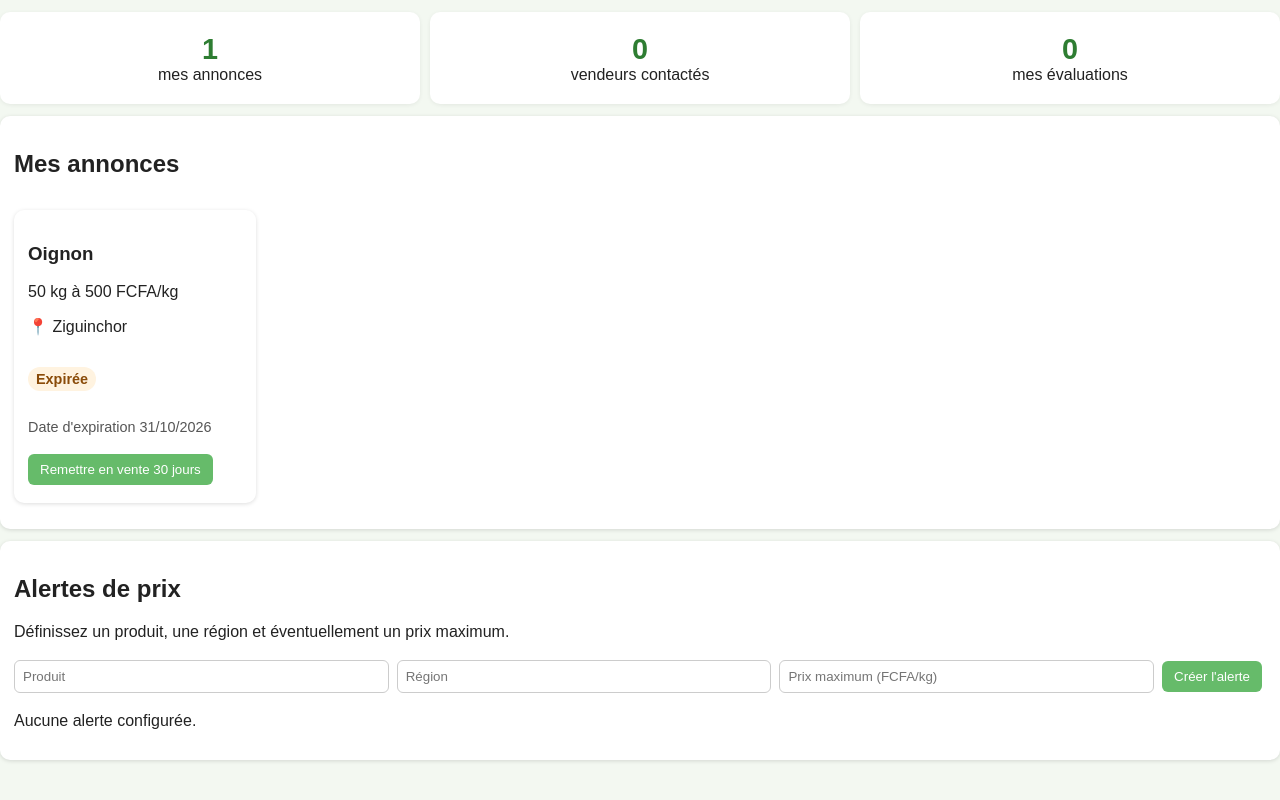
Scenario: TableauBord des annonces › permet de remettre en vente une annonce expirée pour 30 jours
Expected: the text "Expirée" is shown, [28,367,96,391]
Click the button "Remettre en vente 30 jours" at (120, 469), box [28,454,213,485]
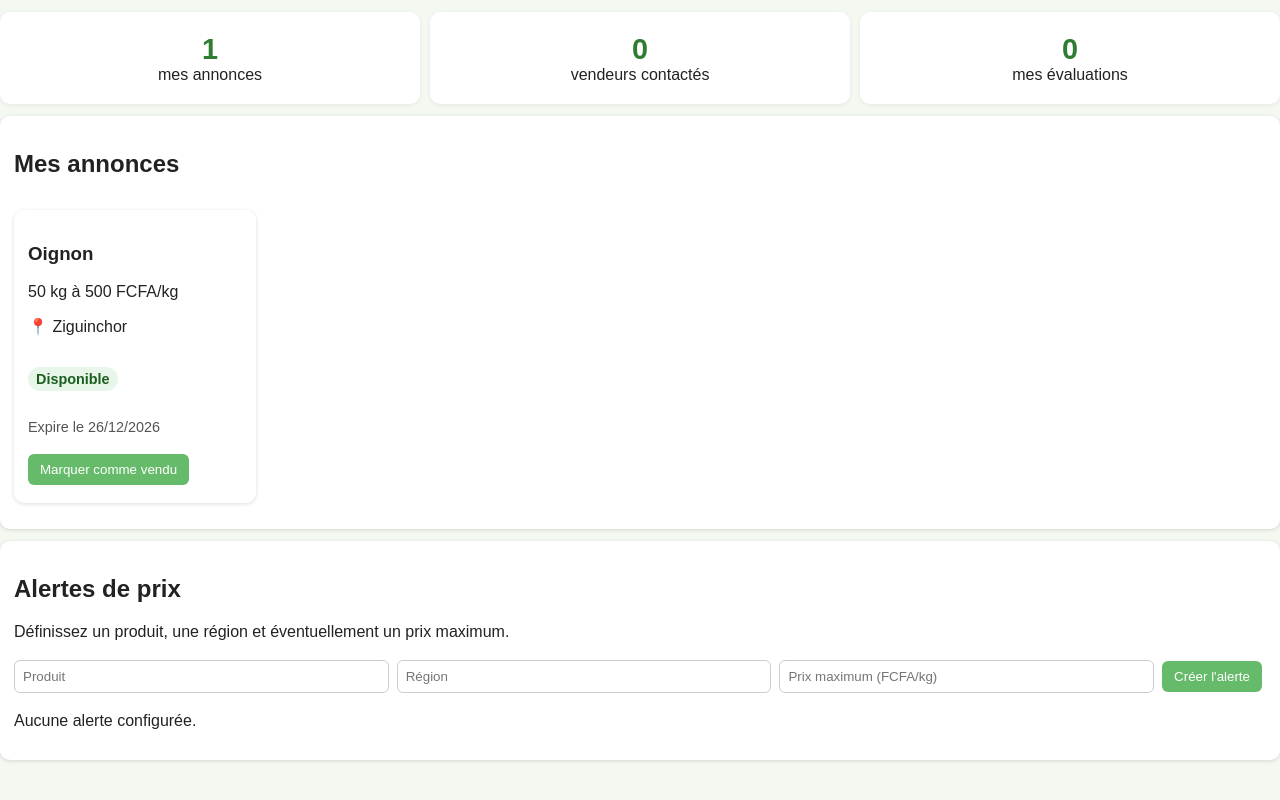
Expected: the text "Disponible" is shown, [28,367,118,391]
Expected: the button "Marquer comme vendu" is shown, [28,454,189,485]
